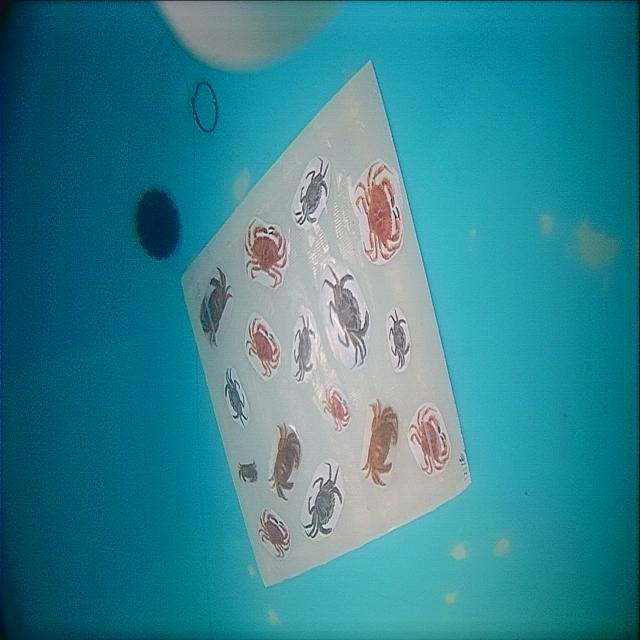GreenCrab: (323, 267, 369, 366), (303, 462, 342, 537), (295, 159, 328, 225), (294, 316, 315, 381), (389, 312, 409, 367)
